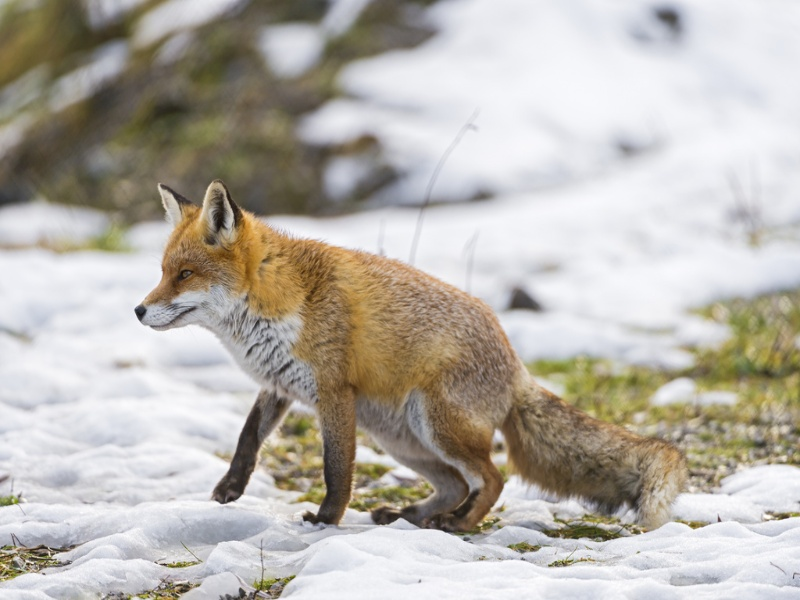fox: (127, 173, 696, 557)
